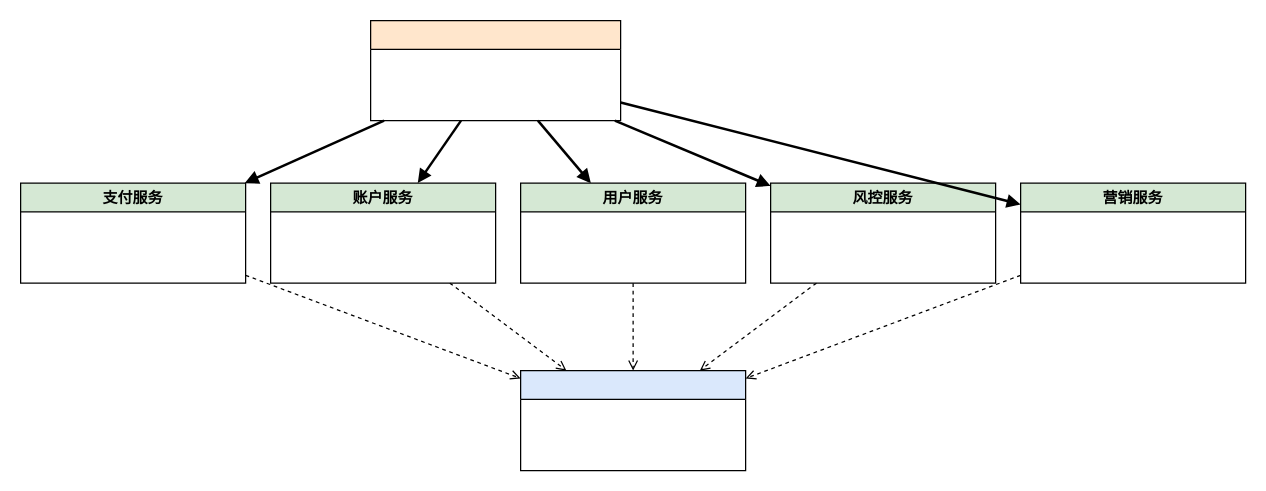
Image size: 1266x491. Some labels were removed from this diagram. Each missing label, with the centre of its shape:
API网关: (495,70)
服务注册中心: (632,420)
